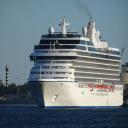cruises: (27, 17, 125, 111)
